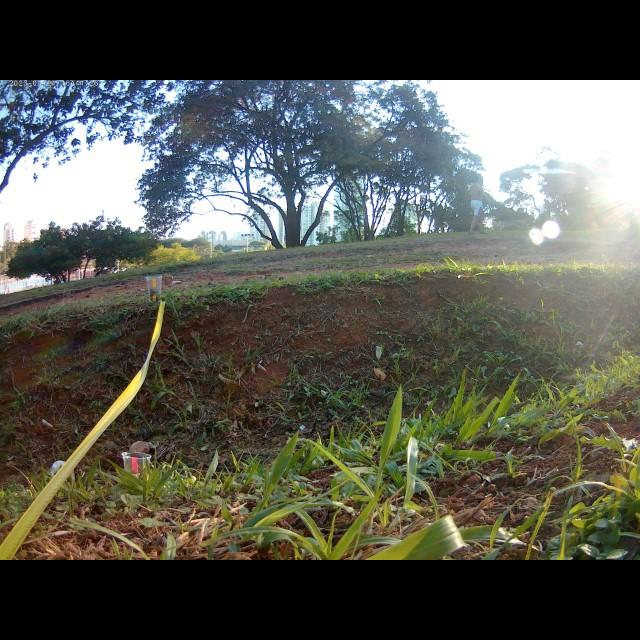ravina: (4, 287, 639, 481)
